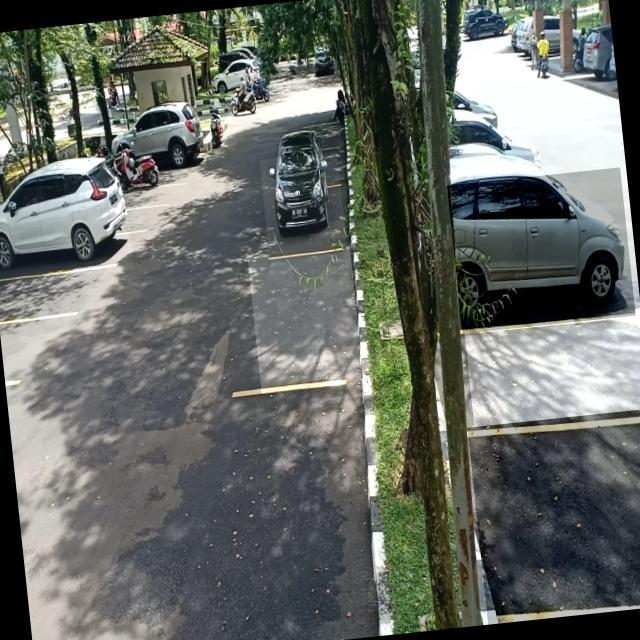empty: (467, 408, 640, 624), (463, 307, 640, 438), (247, 245, 364, 394)
occupied: (447, 167, 636, 333), (0, 177, 133, 284), (259, 152, 347, 260)
